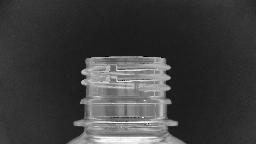No Cap: (68, 48, 182, 132)
